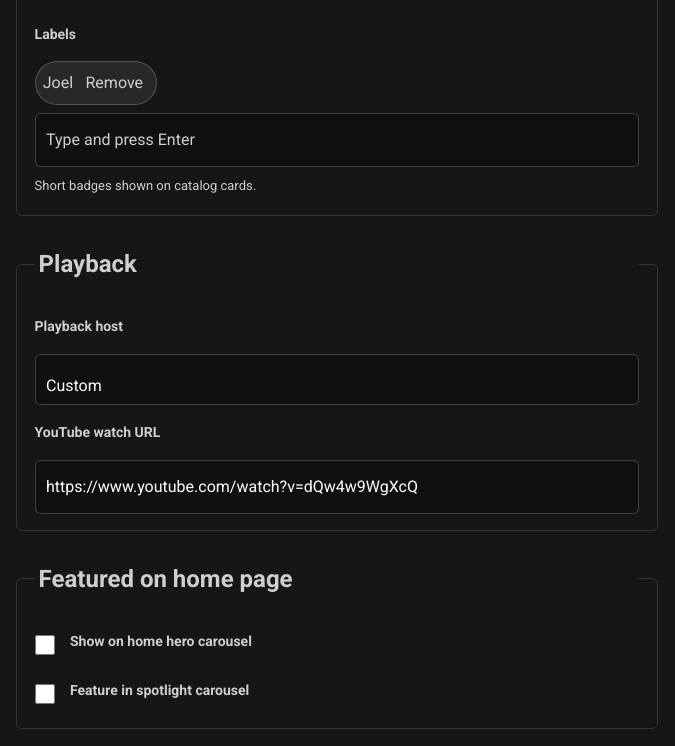
Test: AdminCatalogForm › host switch preserves opposite-host URL values in form state
(page scrolled)
Step 1. Select "Custom" in the dropdown with id "catalog-form-playback-host" → (337, 379), box [35,354,639,405]
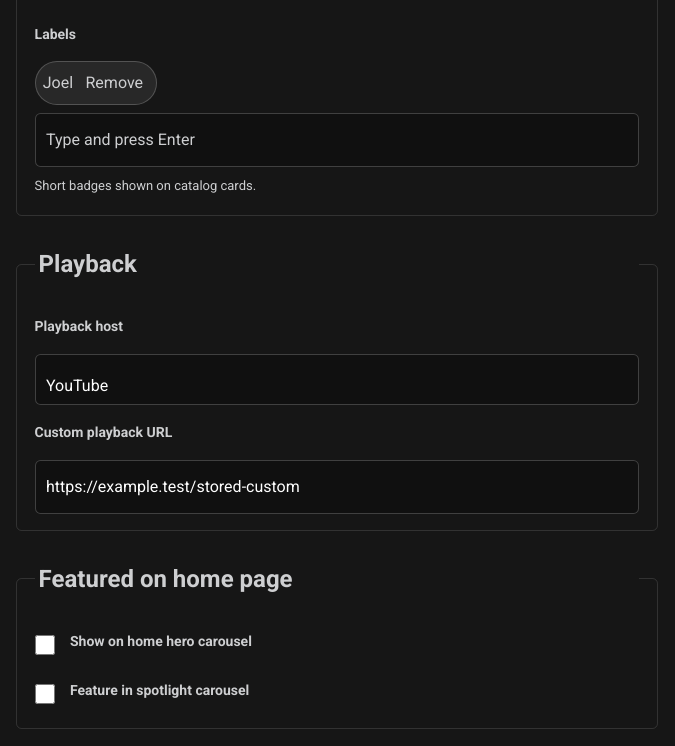
Check: the field with id "catalog-form-custom-playback-url" holds "https://example.test/stored-custom", box [35,460,639,514]
Step 2. Select "YouTube" in the dropdown with id "catalog-form-playback-host" → (337, 379), box [35,354,639,405]
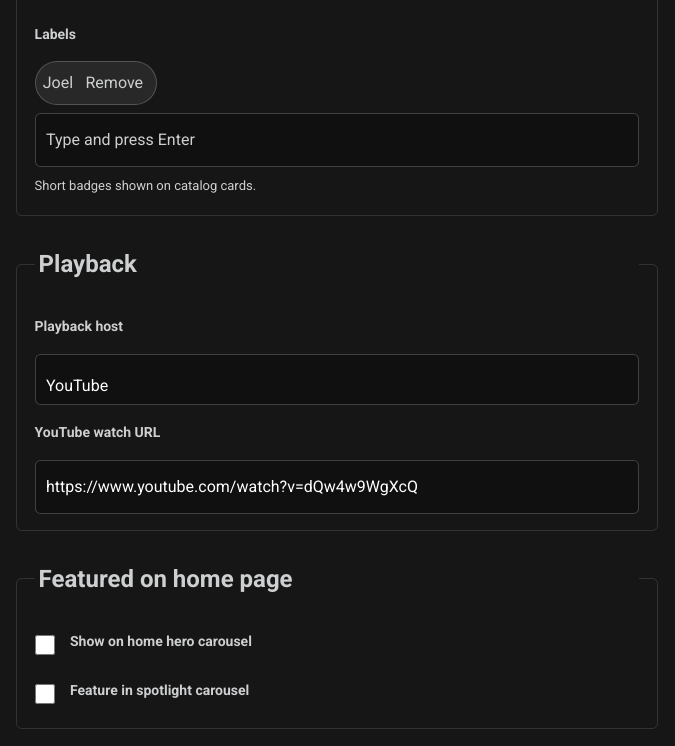
Check: the field with id "catalog-form-custom-playback-url" holds "https://www.youtube.com/watch?v=dQw4w9WgXcQ", box [35,460,639,514]
